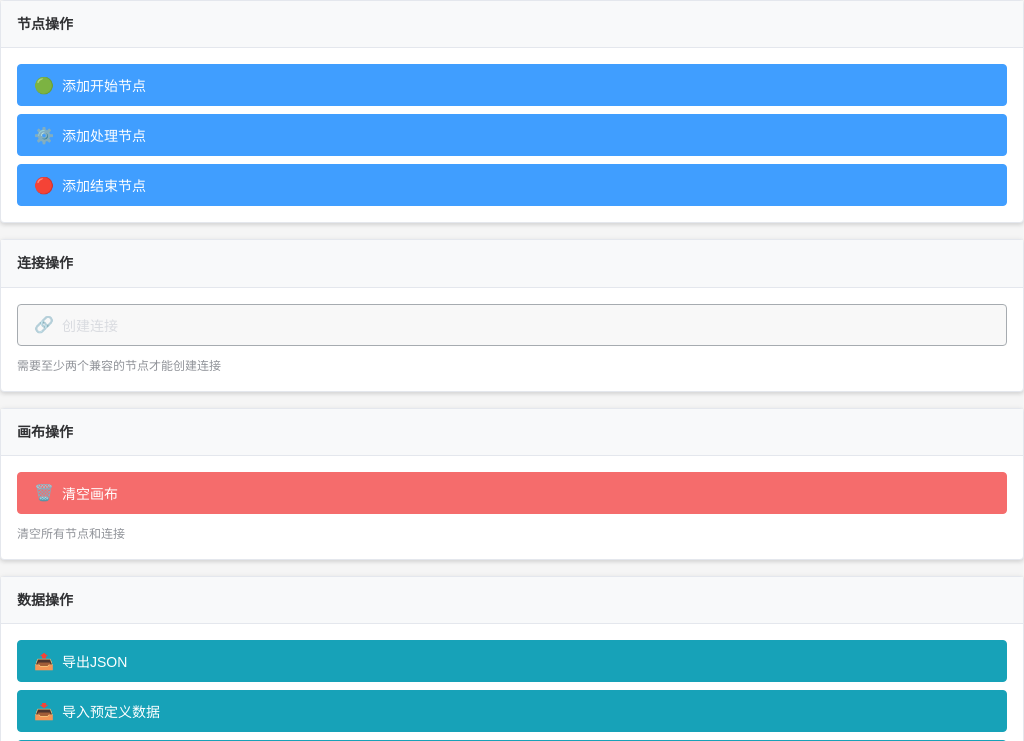
ControlPanel › should close confirmation dialog when cancel is clicked
Click the button "🗑️ 清空画布": x=90, y=494 [17,472,1007,514]
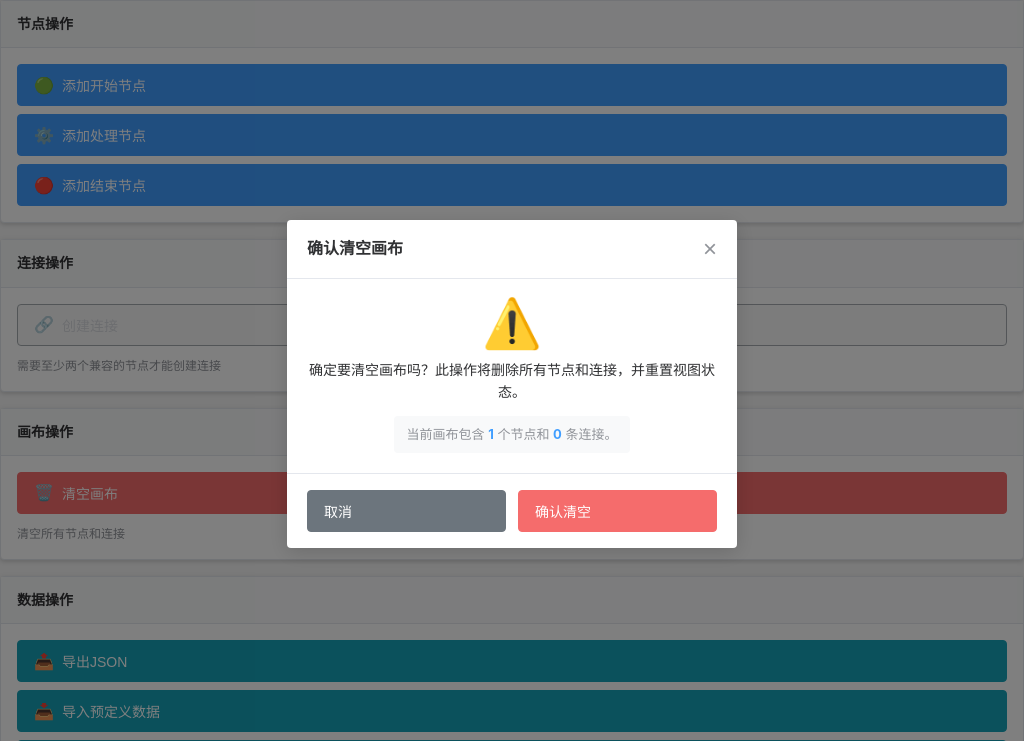
Result: the text "确认清空画布" is shown at [307,236,403,262]
Result: the button "取消" is shown
Click the button "取消": x=406, y=511 [307,490,506,532]
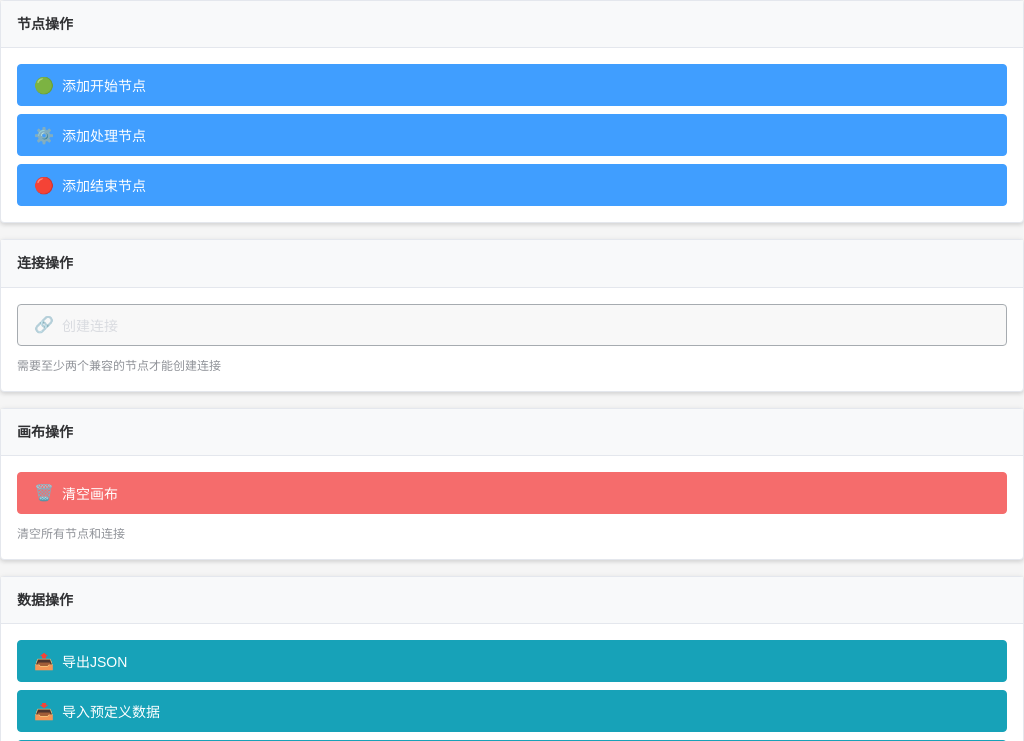
Result: the text "确认清空画布" is gone
